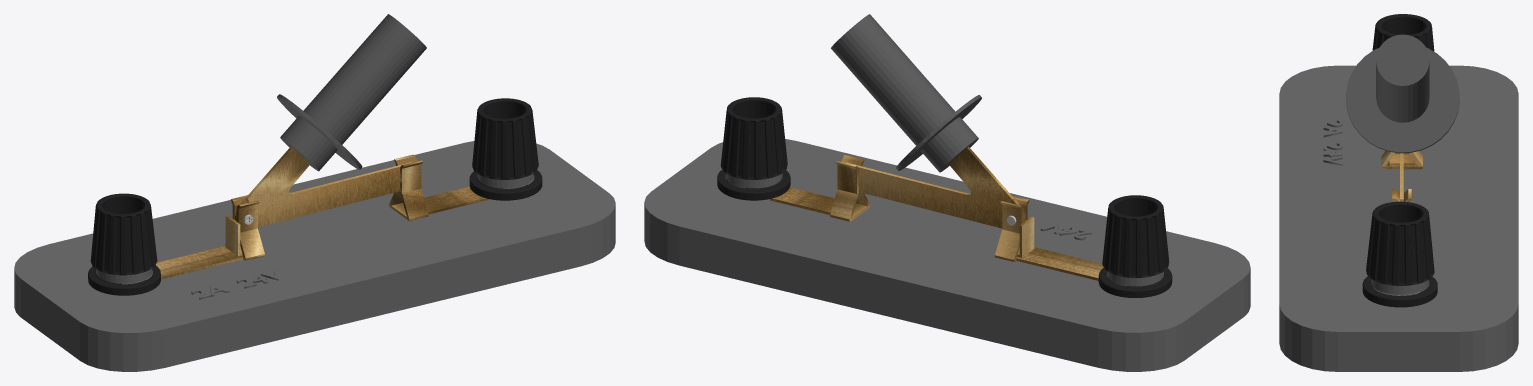
The model's file is ключ.fbx.
3 views of the same model, side by side, from view 1: azimuth 30°, elevation 25°; view 2: azimuth 150°, elevation 25°; view 3: azimuth 270°, elevation 25° (orthographic). The views are drawn at different scales.
Parts seen in each view (by area): view 1: Text, Рычаг; view 2: Text, Рычаг; view 3: Text, Рычаг.
Part boxes in pixels (box(x1,y1,x2,y2)): Text: box(14, 98, 615, 371); Рычаг: box(235, 14, 426, 227); Text: box(644, 97, 1250, 371); Рычаг: box(831, 14, 1025, 228); Text: box(1279, 14, 1518, 371); Рычаг: box(1345, 34, 1459, 201).
Size of the model in its own units: 830 by 356 by 315.
